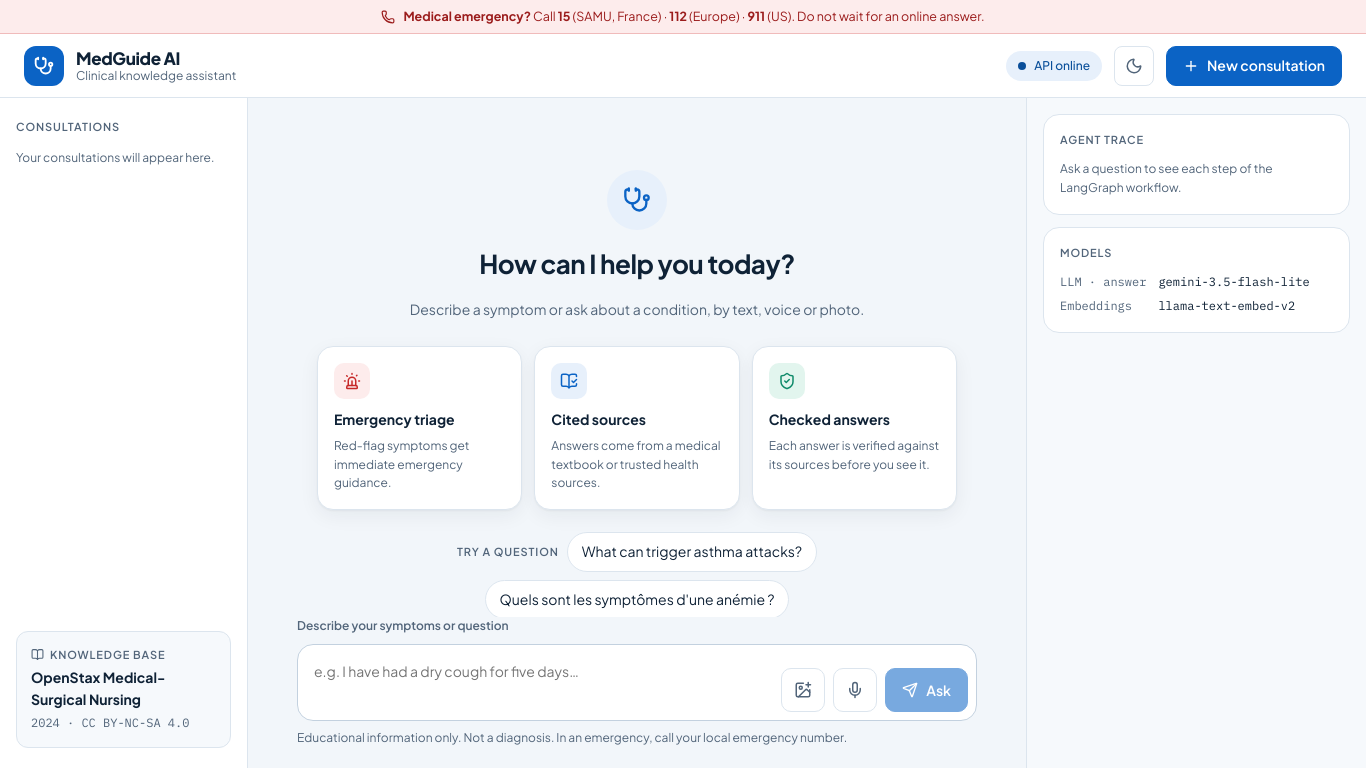
Test: App › streams an answer with triage, grounding, citations and the agent trace
This screenshot has width=1366, height=768.
Type "What triggers asthma?" into the text box labelled "Describe your symptoms or question" at (540, 683), box [306, 653, 773, 712]
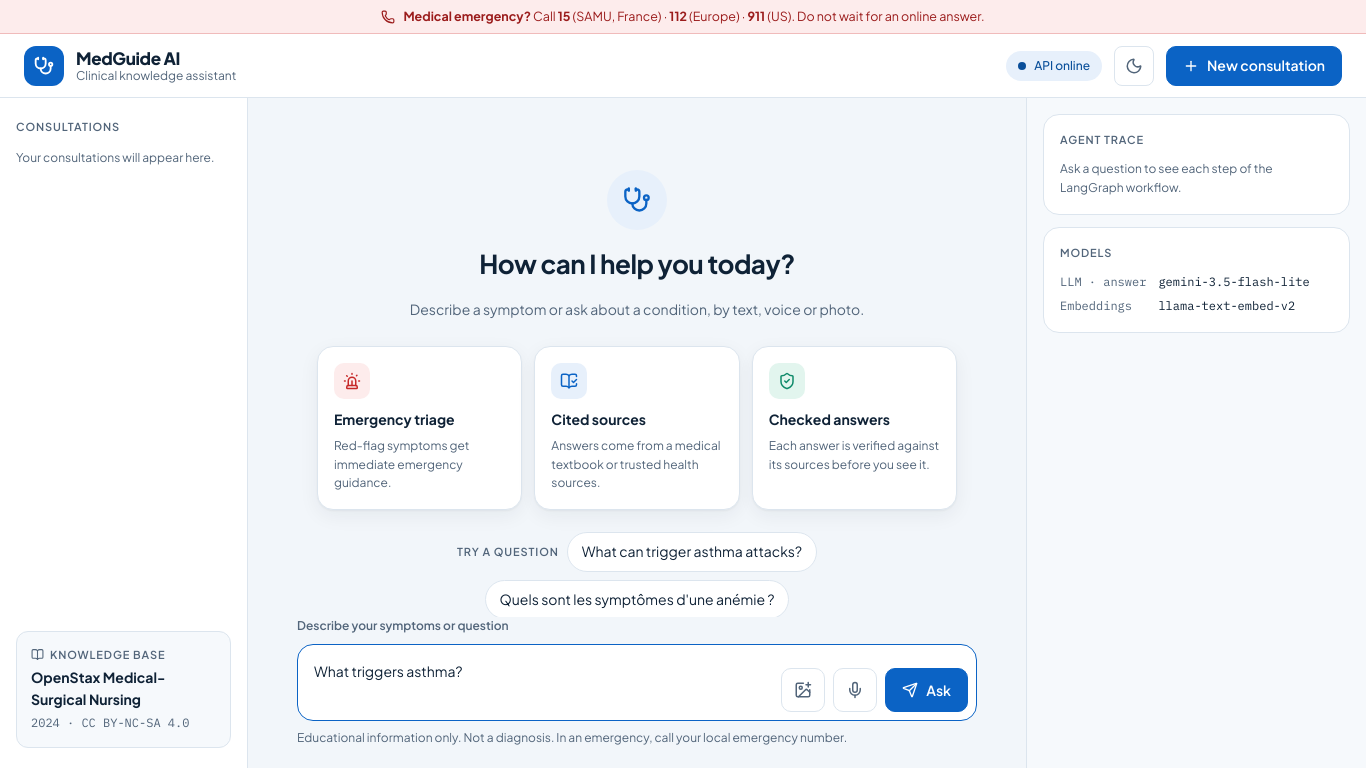
Click the button "Ask" at (927, 690), box [885, 668, 968, 712]
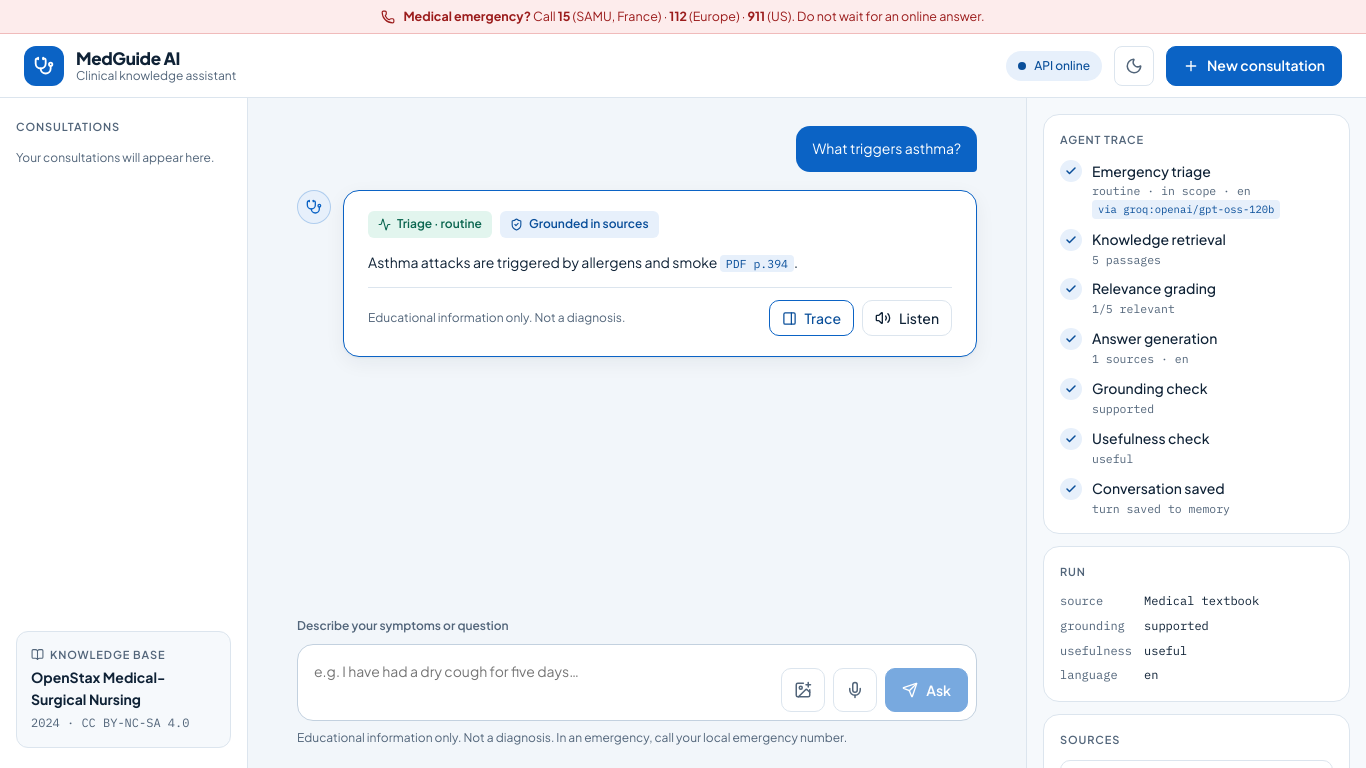
Result: the text "Triage · routine" is shown at [368, 211, 492, 238]
Result: the text "Grounded in sources" is shown at [500, 211, 659, 238]
Result: the text "PDF p.394" is shown at [720, 255, 794, 272]
